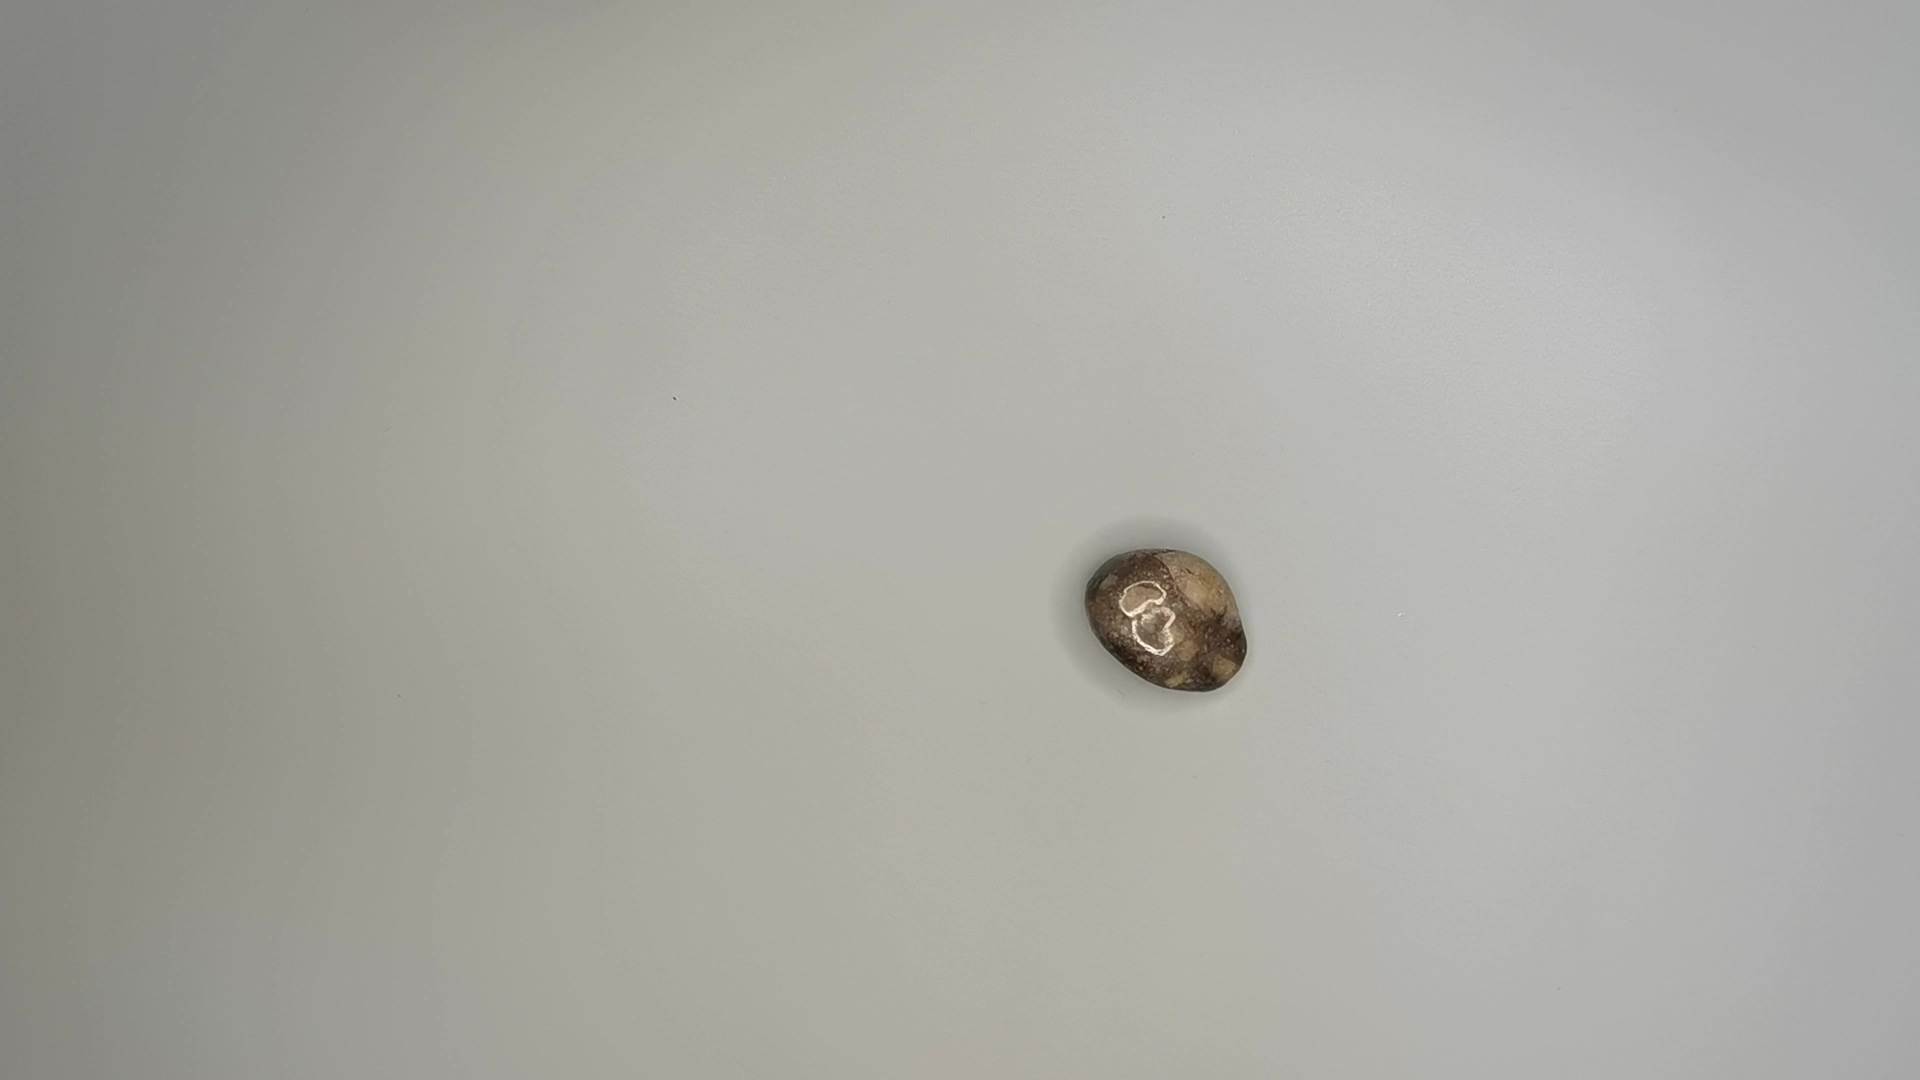ceramic: (1077, 545, 1247, 700)
